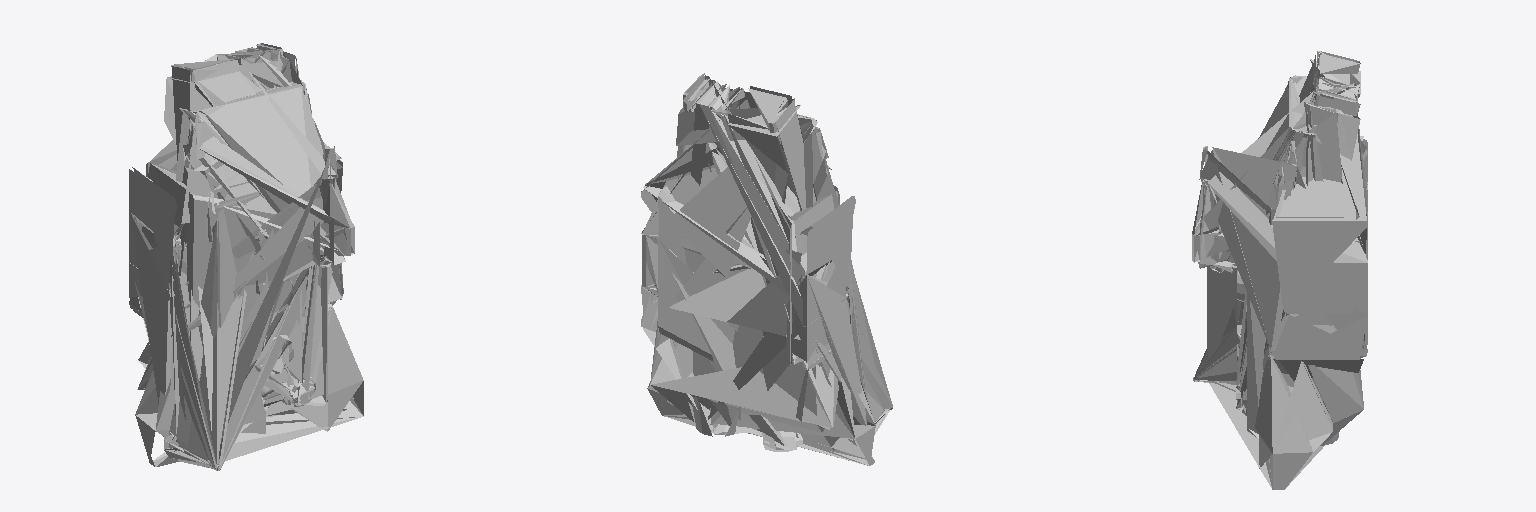
File: A-A5 Speeder Truck.obj
3 renders of one model, left to right at view 1: azimuth 30°, elevation 25°; view 2: azimuth 150°, elevation 25°; view 3: azimuth 270°, elevation 25°, orthographic.
Visible parts, largest first — view 1: transportVehicleMesh_0, antennaMesh_0, gunSupportMesh_0; view 2: transportVehicleMesh_0, antennaMesh_0, gunSupportMesh_0; view 3: transportVehicleMesh_0, DoorRMesh_0, antennaMesh_0, DoorLMesh_0, gunSupportMesh_0.
Part boxes in pixels (x1,y1,x2,y2): transportVehicleMesh_0: (129, 43, 363, 470); antennaMesh_0: (129, 212, 307, 470); gunSupportMesh_0: (129, 211, 305, 470); transportVehicleMesh_0: (641, 73, 892, 465); antennaMesh_0: (642, 234, 892, 425); gunSupportMesh_0: (642, 235, 889, 445); transportVehicleMesh_0: (1192, 51, 1367, 489); DoorRMesh_0: (1289, 263, 1367, 313); antennaMesh_0: (1194, 184, 1367, 384); DoorLMesh_0: (1286, 263, 1367, 313); gunSupportMesh_0: (1193, 309, 1282, 382).
Bounding box in the file's own units: 59.63 × 100 × 43.62.